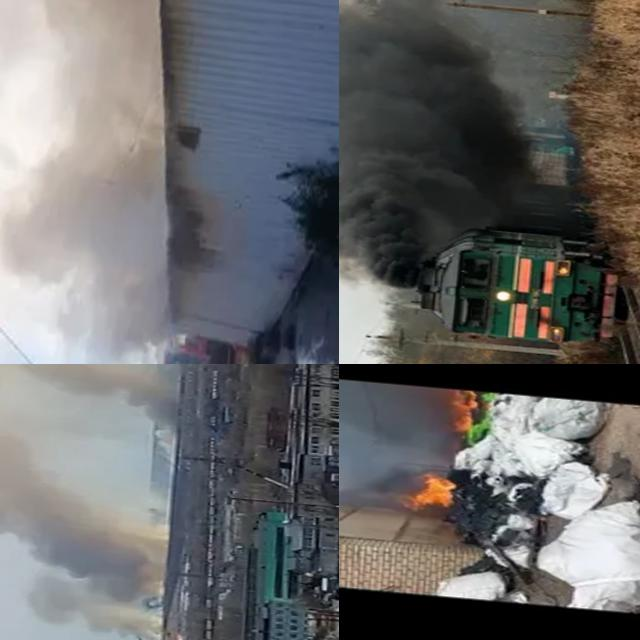smoke: (0, 0, 204, 364), (339, 0, 536, 294), (0, 405, 171, 579), (339, 369, 460, 513), (0, 364, 180, 424), (21, 570, 160, 640)
